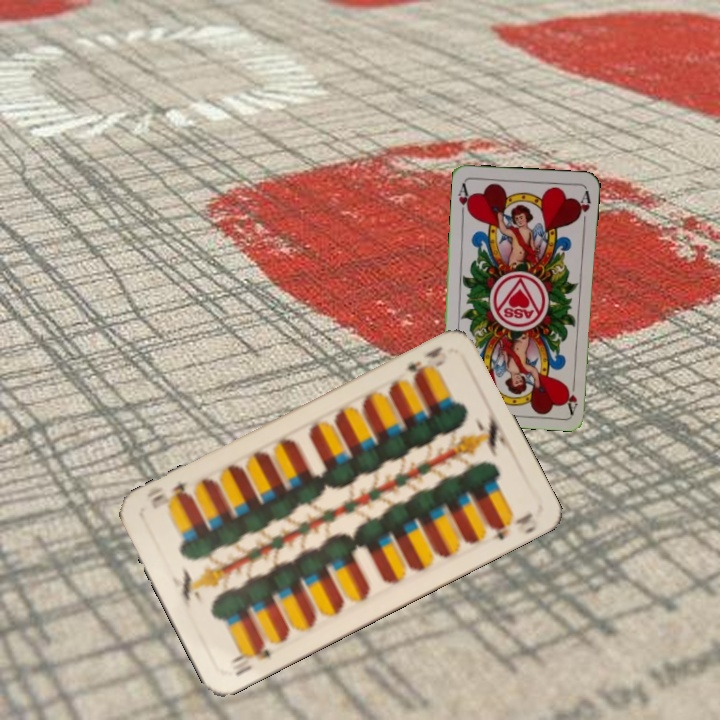E10: (403, 342, 450, 383), (227, 639, 273, 679)
HA: (454, 179, 474, 219), (562, 375, 580, 415)
